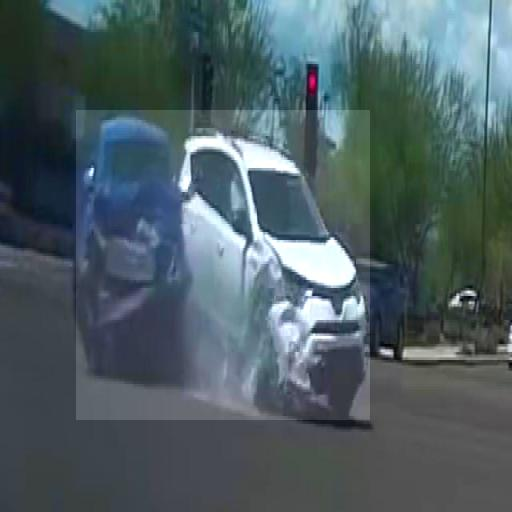小汽车撞小汽车: (76, 110, 370, 420)
